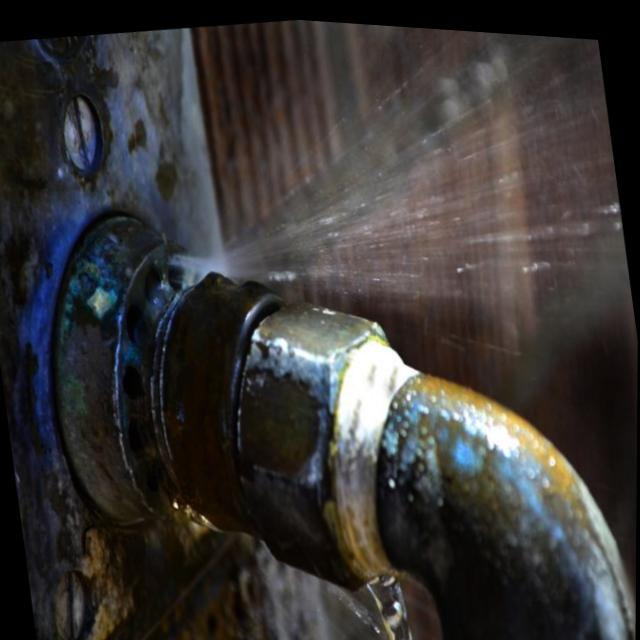leak: (192, 20, 638, 584)
